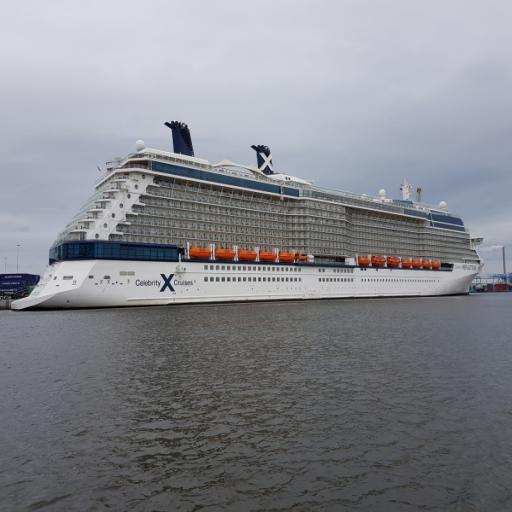cruises: (9, 118, 486, 317)
